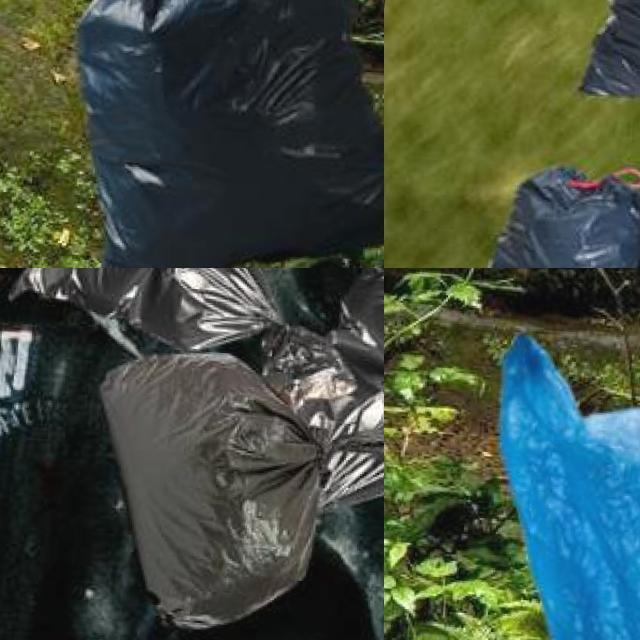waste: (46, 0, 384, 268), (84, 348, 338, 630), (472, 287, 640, 640), (288, 268, 384, 513), (440, 156, 640, 268), (23, 268, 297, 341)
